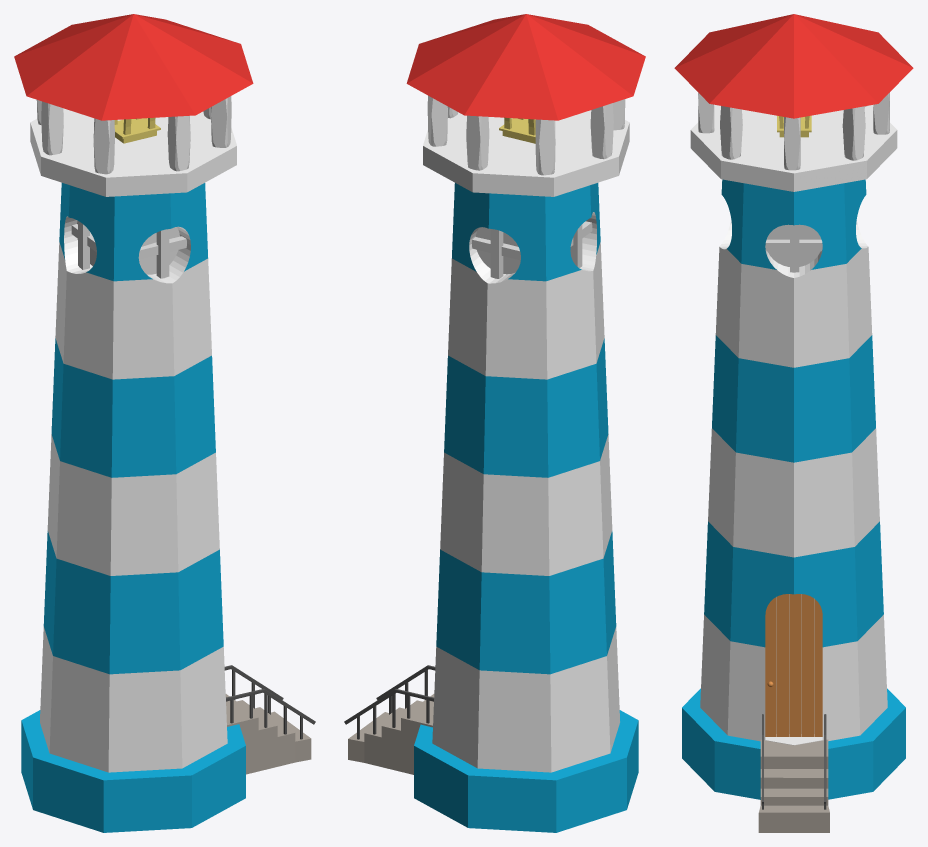
Rendered from lightHouse.fbx.
3 renders of one model, left to right at view 1: azimuth 30°, elevation 25°; view 2: azimuth 150°, elevation 25°; view 3: azimuth 270°, elevation 25°, orthographic. The views are drawn at different scales.
Parts seen in each view (by area): view 1: Circle, stupenki, Cube.021, Cube.015, Plane_lampa, Cube.014; view 2: Circle, stupenki, Cube.021, Cube.013, Plane_lampa; view 3: Circle, Sphere, stupenki, Cube.012, Cube.021.
Boxes of the visible parts, box(x1,y1,x2,y2) form: Circle: box(14, 14, 253, 832); stupenki: box(225, 694, 311, 774); Cube.021: box(224, 665, 315, 739); Cube.015: box(138, 229, 186, 278); Plane_lampa: box(114, 117, 160, 143); Cube.014: box(71, 221, 96, 269); Circle: box(406, 14, 645, 832); stupenki: box(348, 694, 434, 774); Cube.021: box(344, 665, 435, 739); Cube.013: box(471, 229, 520, 278); Plane_lampa: box(499, 117, 535, 143); Circle: box(674, 14, 913, 799); Sphere: box(765, 594, 822, 736); stupenki: box(758, 739, 829, 832); Cube.012: box(765, 225, 822, 272); Cube.021: box(762, 714, 826, 809).
Bounding box in the file's own units: 1121 × 3029 × 882.
